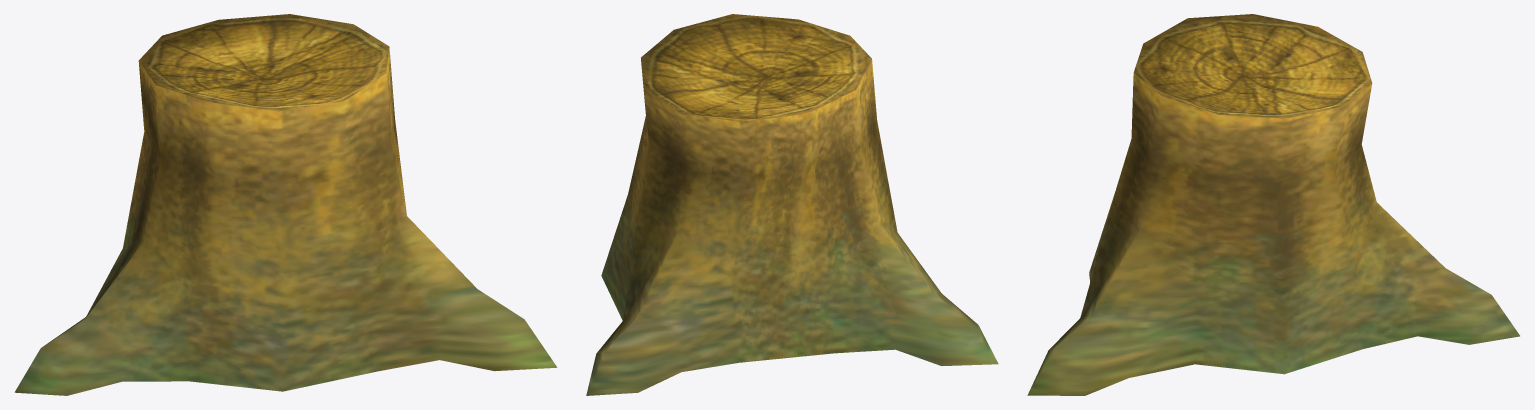
Rendered from INST_MIRK_STUMP_DESTRUCTIBLE.fbx.
The picture shows the model from 3 angles, left to right: view 1: azimuth 30°, elevation 25°; view 2: azimuth 150°, elevation 25°; view 3: azimuth 270°, elevation 25°; orthographic projection. The views are drawn at different scales.
Visible parts, largest first — view 1: INST_MIRK_STUMP_DESTRUCTIBLE; view 2: INST_MIRK_STUMP_DESTRUCTIBLE; view 3: INST_MIRK_STUMP_DESTRUCTIBLE.
Boxes of the visible parts, x1=… form: INST_MIRK_STUMP_DESTRUCTIBLE: x1=14, y1=14, x2=557, y2=395; INST_MIRK_STUMP_DESTRUCTIBLE: x1=586, y1=14, x2=998, y2=395; INST_MIRK_STUMP_DESTRUCTIBLE: x1=1027, y1=14, x2=1519, y2=395.
Bounding box in the file's own units: 6473 × 3884 × 6763.
Materials: 2 (2 with a texture image).
